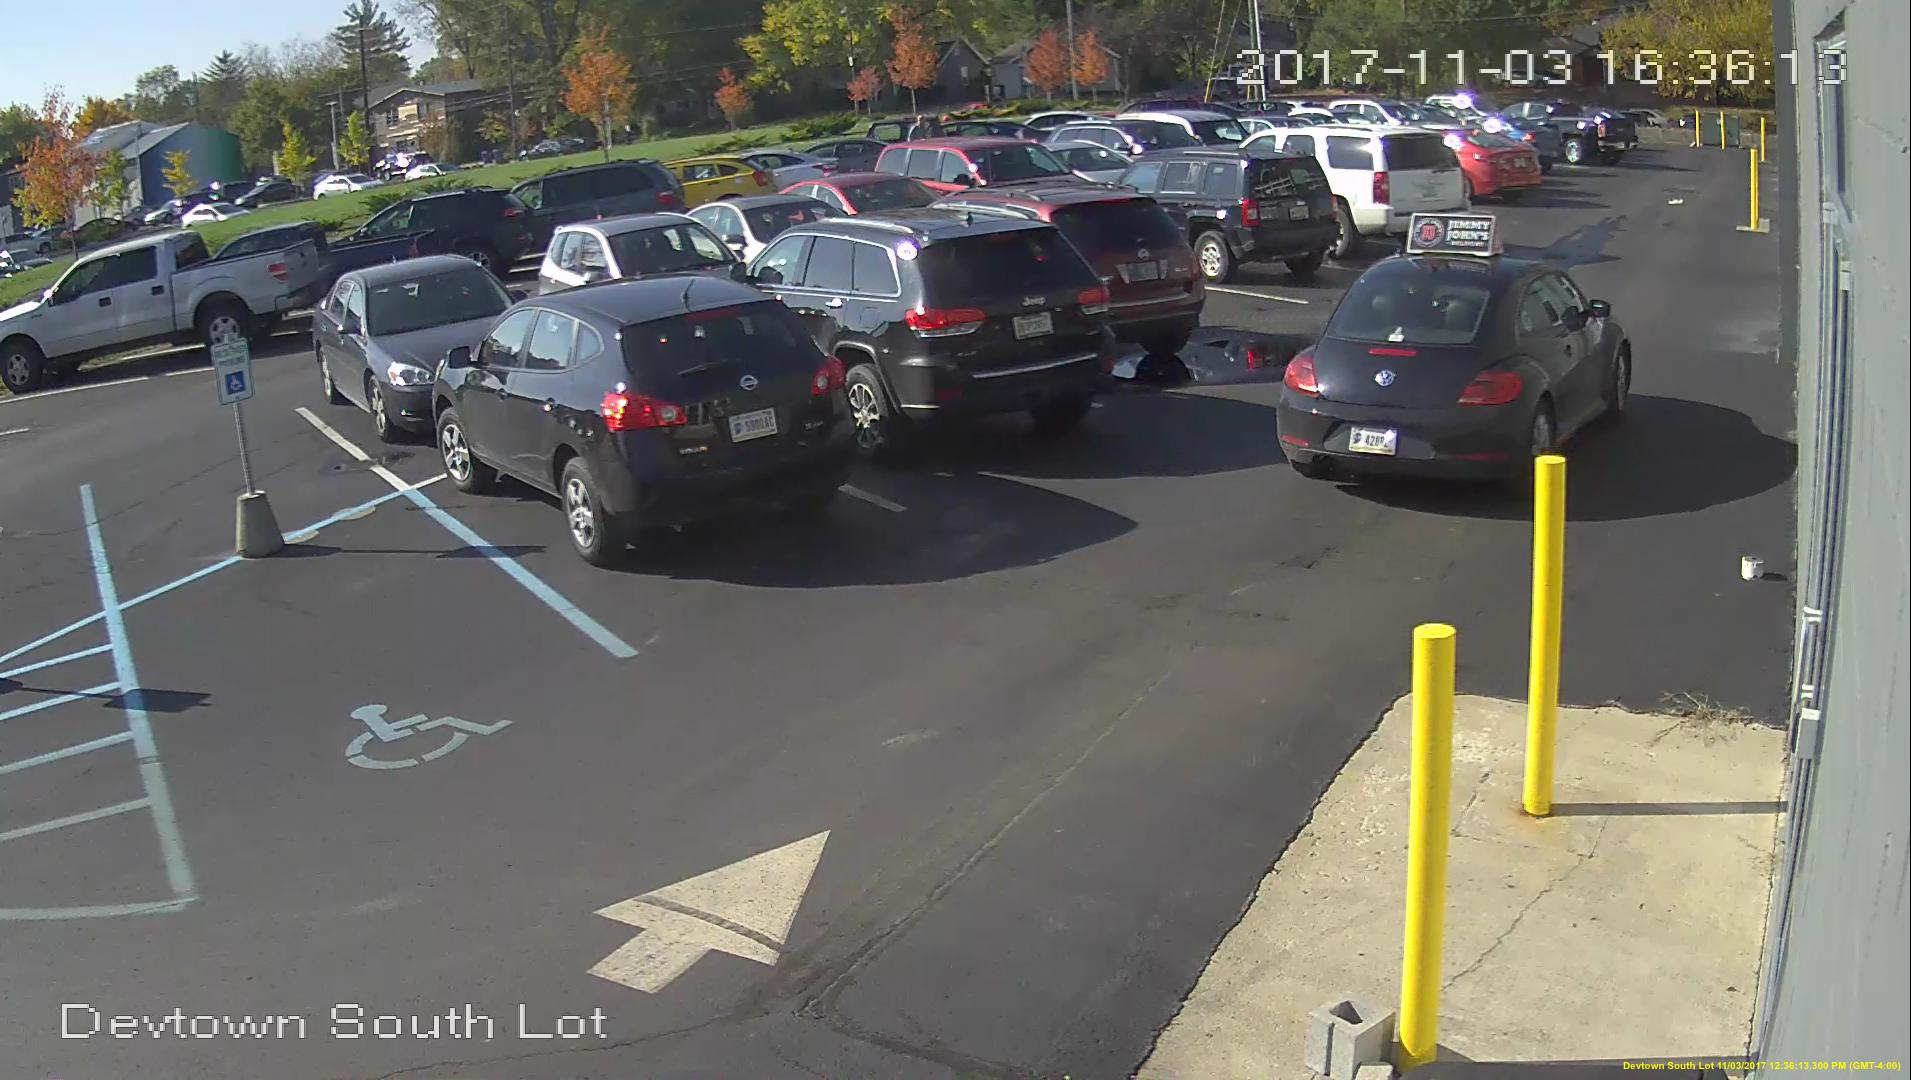jimmy_johns: (1403, 206, 1501, 255)
